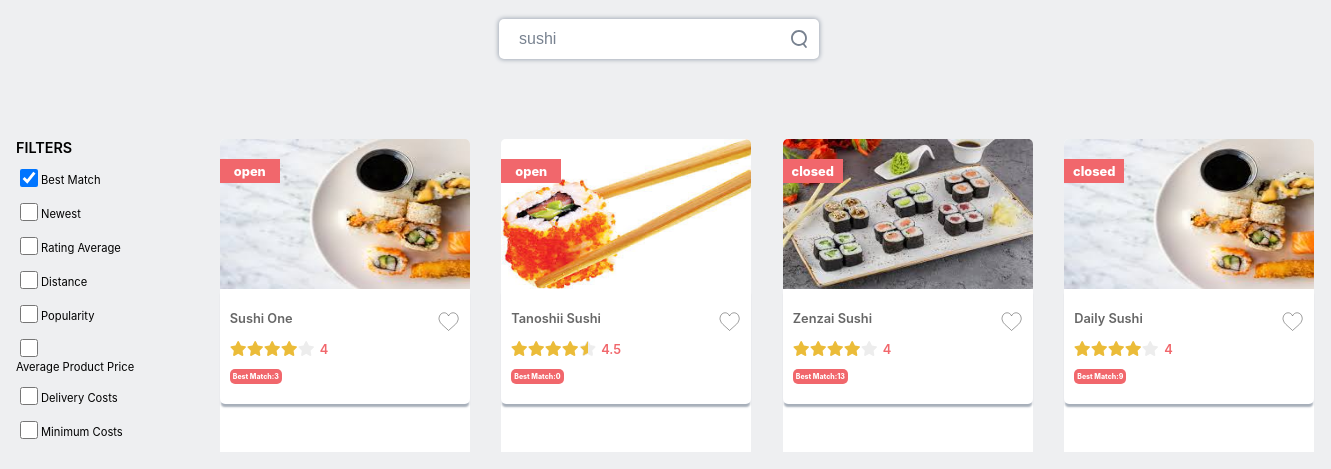
Test: Restaurants displayed on dashboard based on search › shows no result string when match is found
Replace the text in the field with "shdkshkshdk" at (659, 39), box [499, 19, 819, 59]
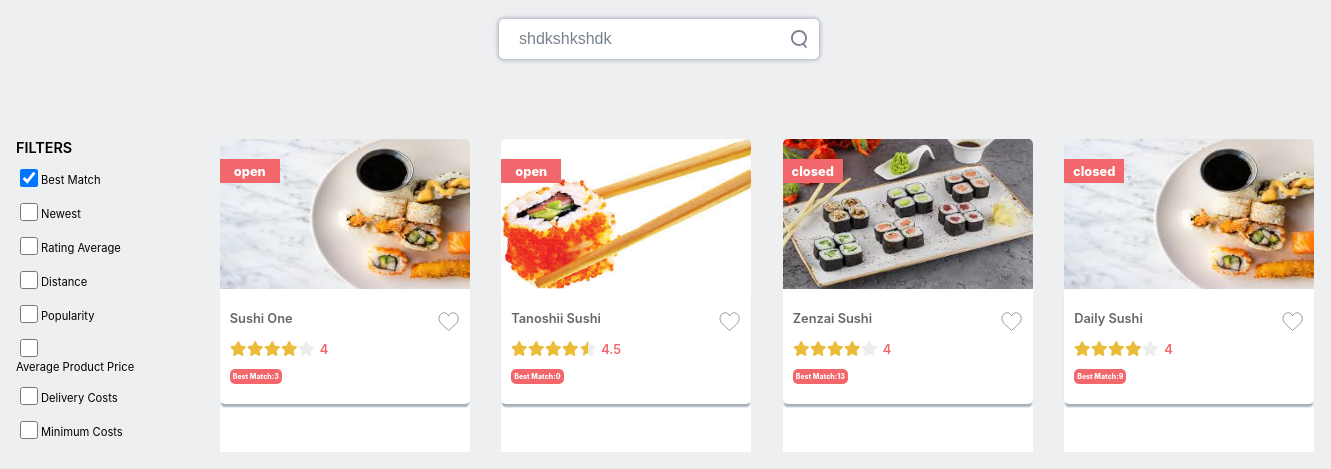
Click the button with class "icon--search".
click(799, 39)  # box [779, 19, 819, 59]
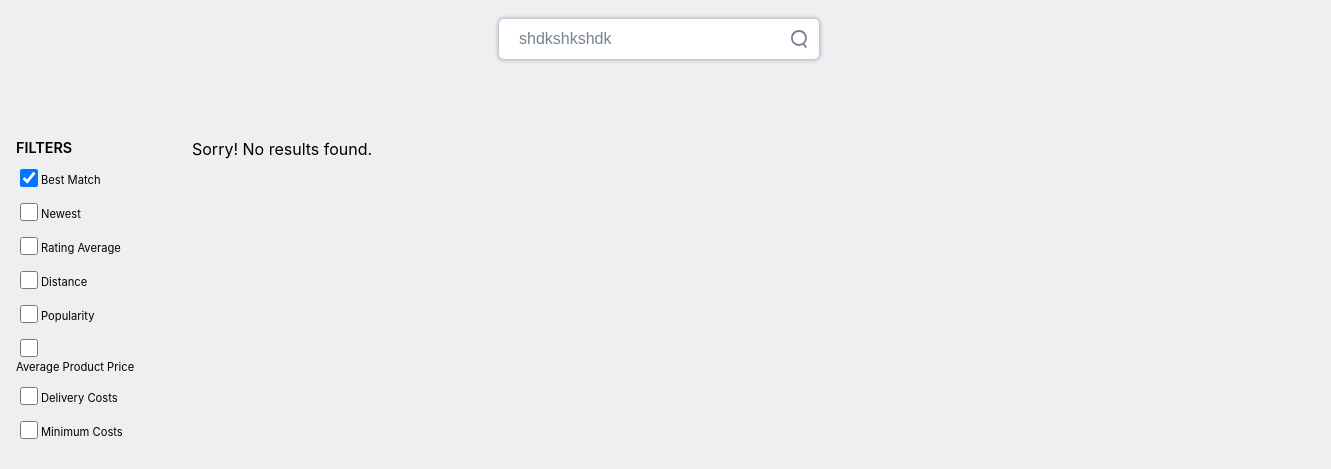
Check: no list items with class "tile" are shown
Check: the text with class "no-show" reads "Sorry! No results found.", box [192, 139, 372, 159]
